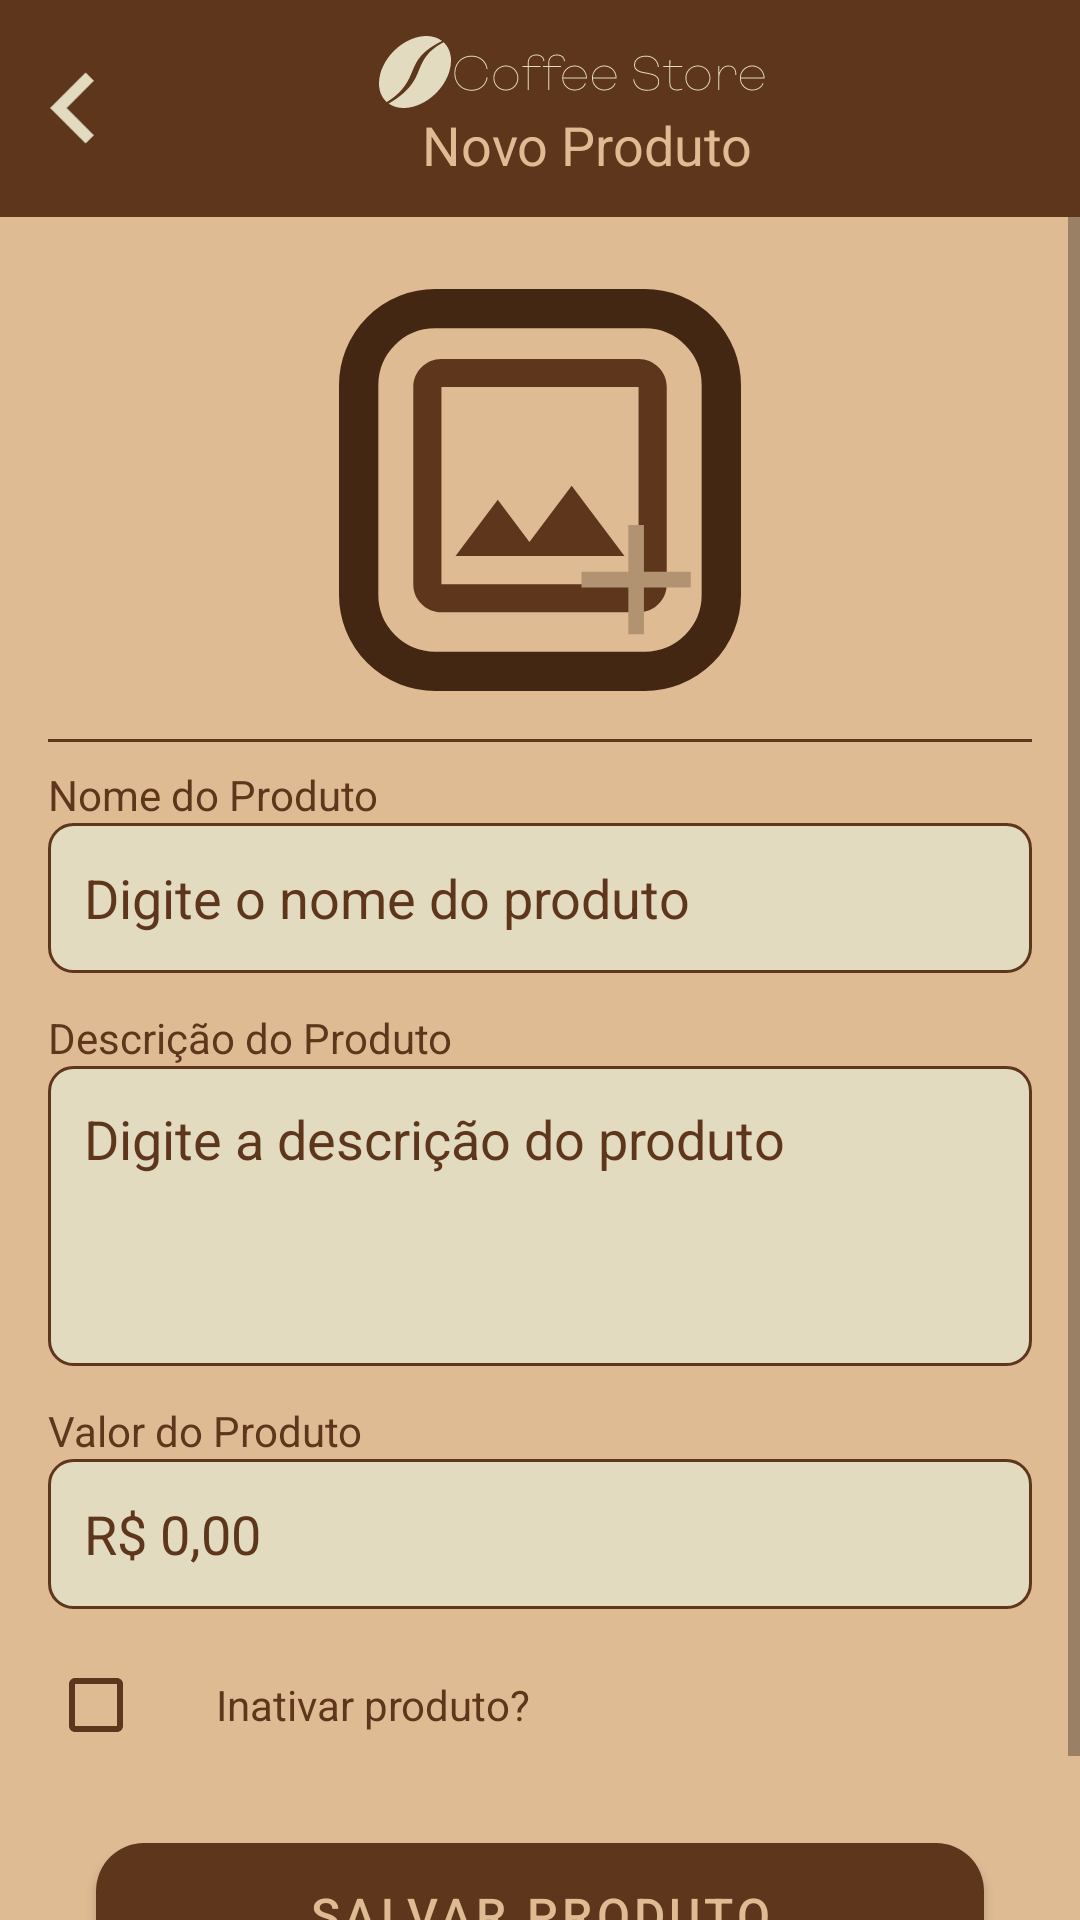

Icon click points for this 1080x1920 phone screenshot, format [x,y]:
Voltar: [72,108]
